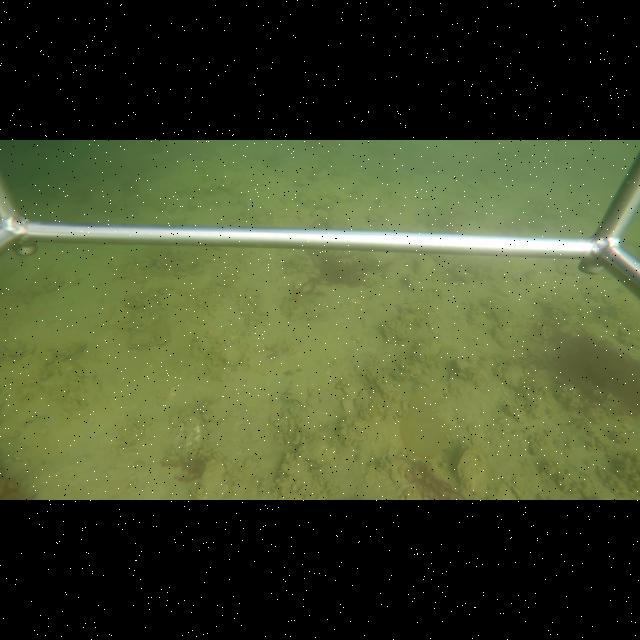Oyster-Closed: (451, 445, 489, 498)
